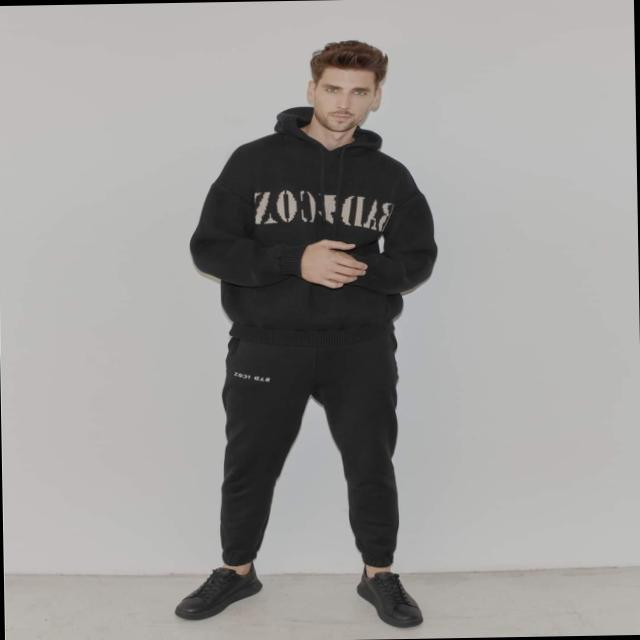sweater: (187, 104, 438, 329)
trousers: (216, 316, 402, 571)
